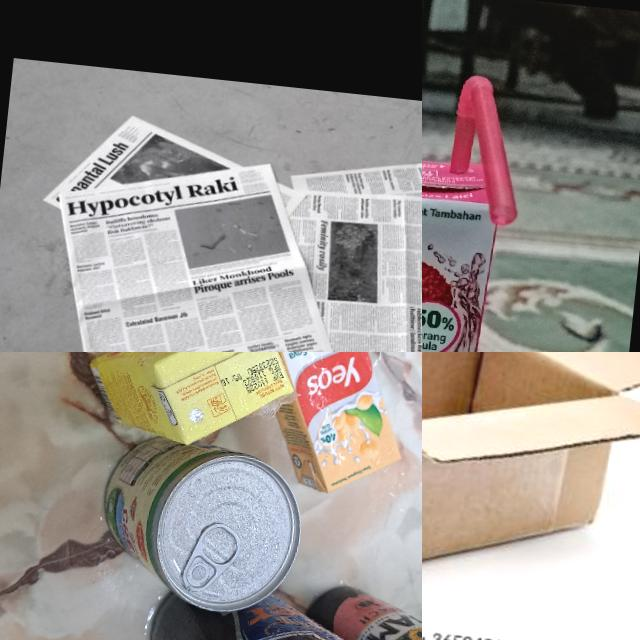aba de lata: (182, 518, 240, 594)
caixinha: (213, 352, 422, 503), (79, 352, 301, 456), (422, 138, 500, 352)
garrafa de vidro: (143, 574, 422, 640), (293, 579, 422, 640)
lata: (90, 428, 307, 617)
papel: (16, 90, 422, 352)
papelão: (422, 352, 640, 615)
